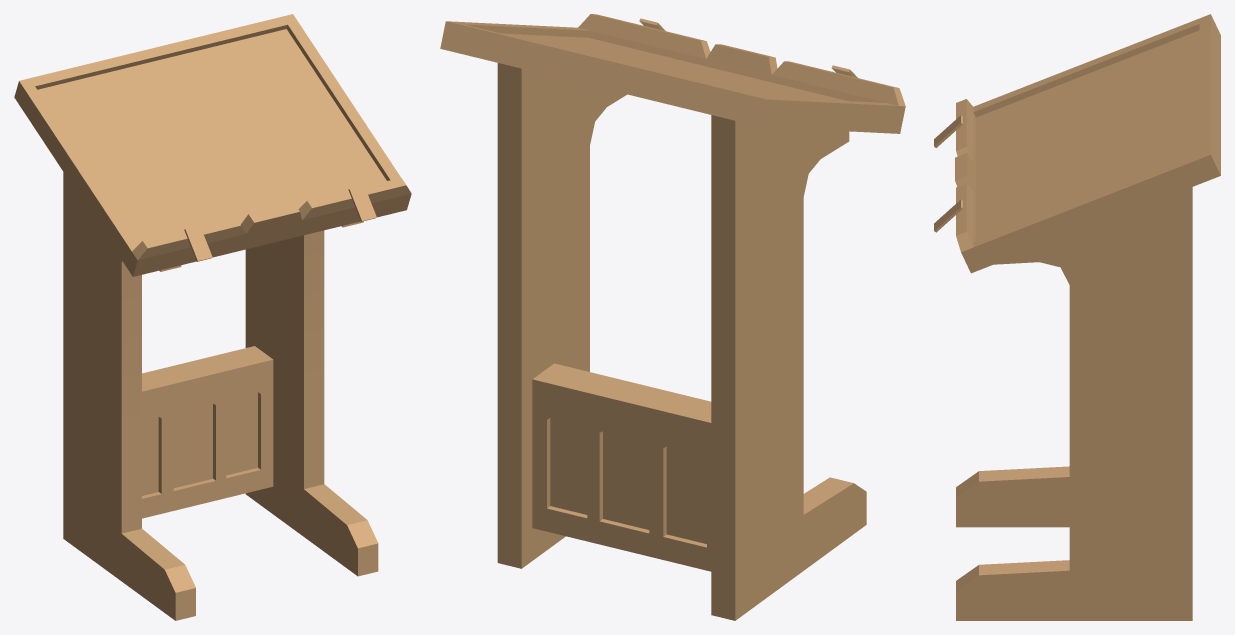
File: atril.fbx
3 renders of one model, left to right at view 1: azimuth 30°, elevation 25°; view 2: azimuth 150°, elevation 25°; view 3: azimuth 270°, elevation 25°, orthographic. The views are drawn at different scales.
Parts seen in each view (by area): view 1: atril; view 2: atril; view 3: atril.
Boxes of the visible parts, x1,y1,x2,y2 form: atril: (14,14,411,620); atril: (440,14,905,620); atril: (934,14,1220,620).
Size of the model in its own units: 3.13 by 5.02 by 2.7.
